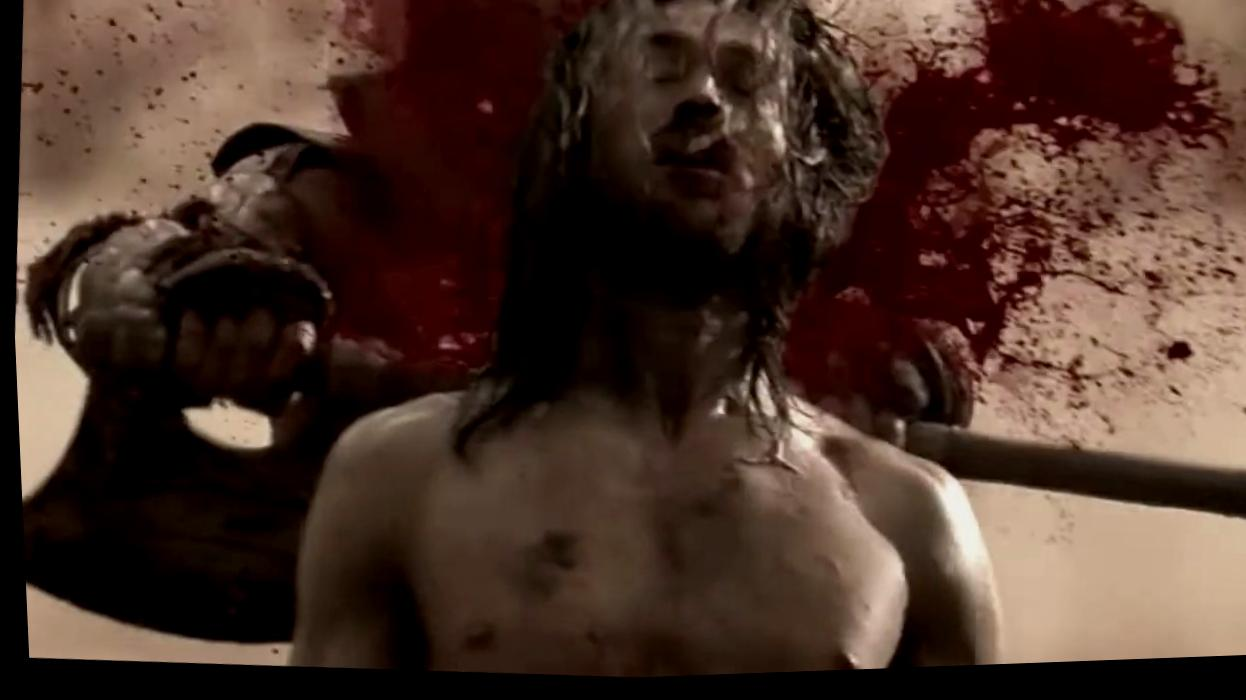Fire: (14, 0, 598, 369), (785, 0, 1246, 451)
